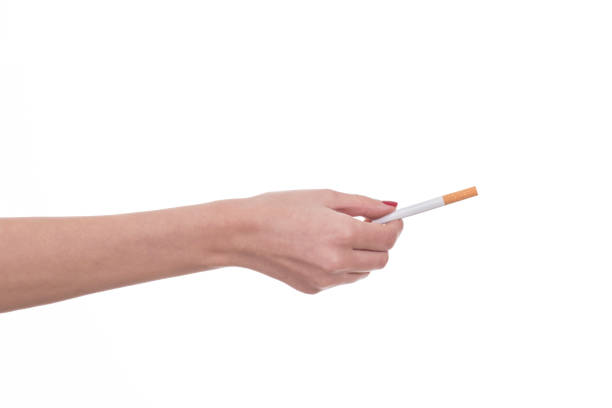cigarette: (370, 186, 480, 225)
